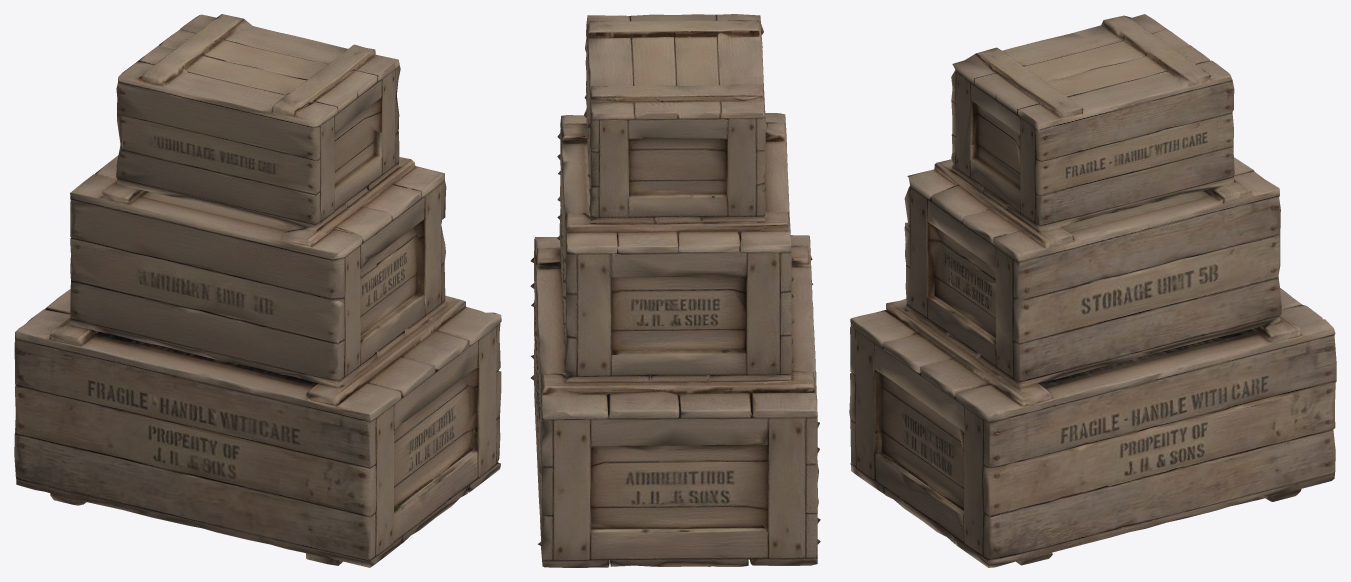
Rendered from a_crates.glb.
The picture shows the model from 3 angles, left to right: view 1: azimuth 30°, elevation 25°; view 2: azimuth 150°, elevation 25°; view 3: azimuth 270°, elevation 25°; orthographic projection. The views are drawn at different scales.
Parts seen in each view (by area): view 1: tripo_node_d4bd7a29-6aec-48a2-9f82-d36861905f6f; view 2: tripo_node_d4bd7a29-6aec-48a2-9f82-d36861905f6f; view 3: tripo_node_d4bd7a29-6aec-48a2-9f82-d36861905f6f.
Part boxes in pixels (left/top/right/bottom): tripo_node_d4bd7a29-6aec-48a2-9f82-d36861905f6f: left=14, top=14, right=501, bottom=567; tripo_node_d4bd7a29-6aec-48a2-9f82-d36861905f6f: left=530, top=14, right=820, bottom=567; tripo_node_d4bd7a29-6aec-48a2-9f82-d36861905f6f: left=849, top=14, right=1336, bottom=567.
Size of the model in its own units: 0.9429 by 1 by 1.04.
1 material, 1 textured.
